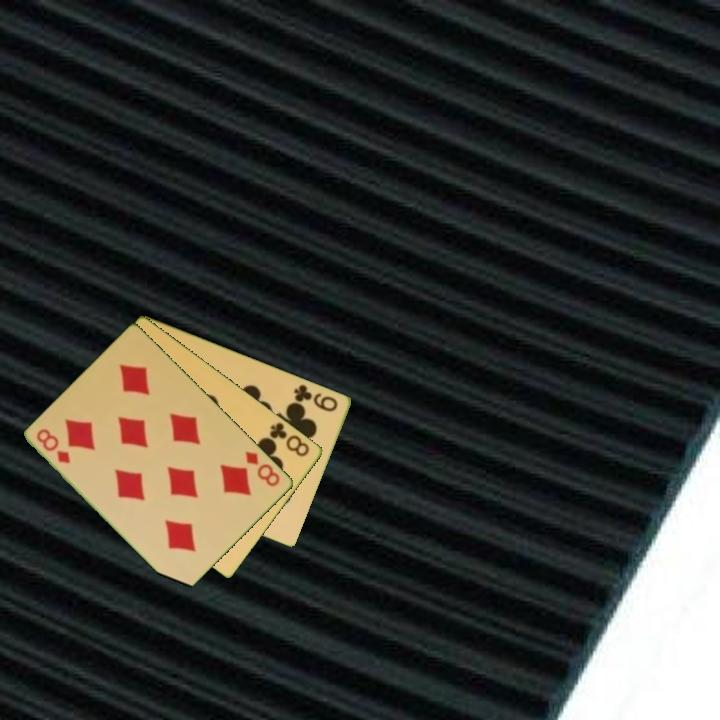8c: (266, 419, 313, 460)
8d: (242, 447, 283, 489), (33, 425, 74, 466)
9c: (291, 381, 341, 414)
